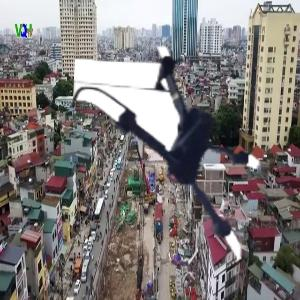drone: (72, 46, 296, 270)
